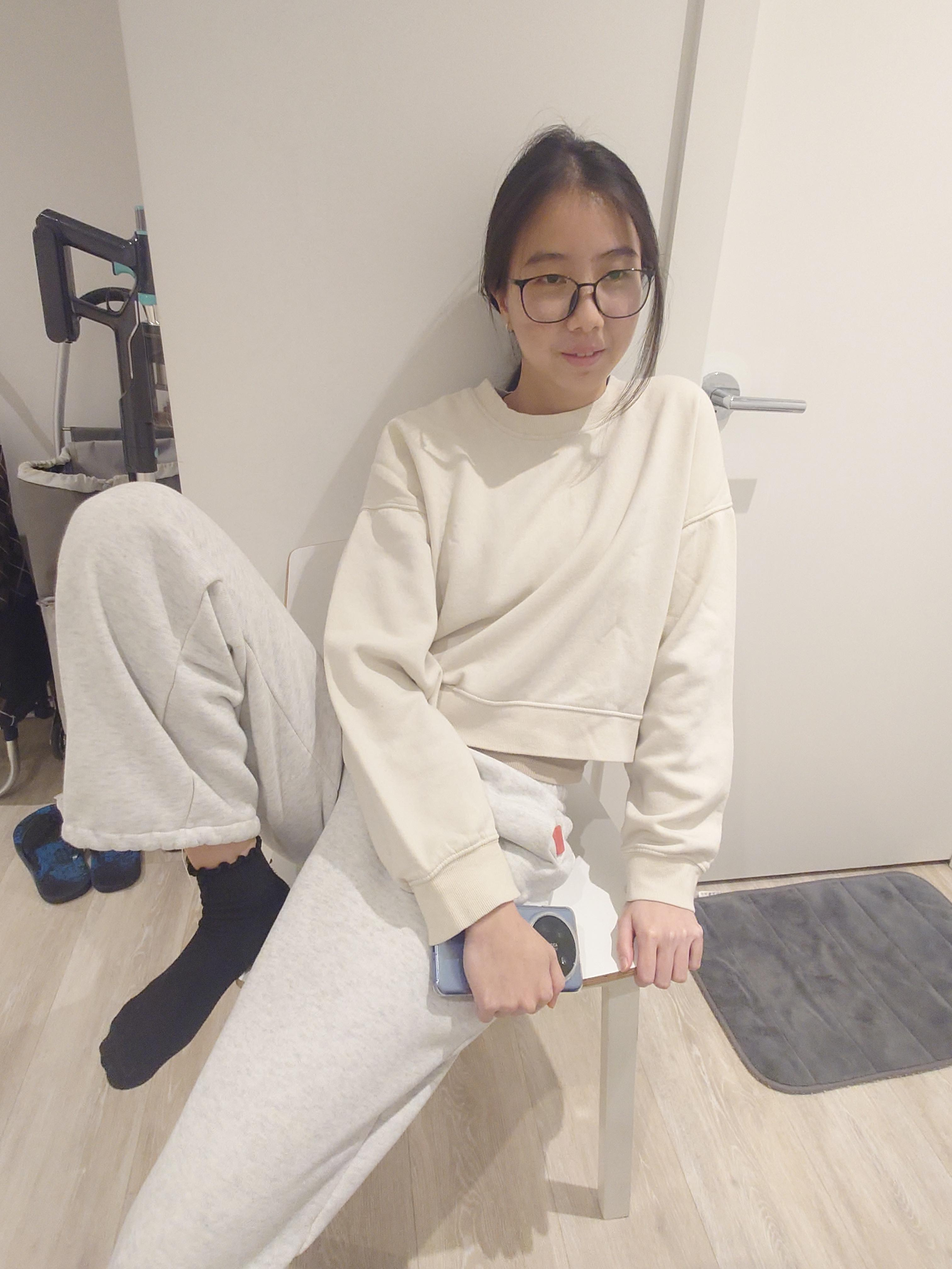BadPosture: (55, 124, 739, 1269)
